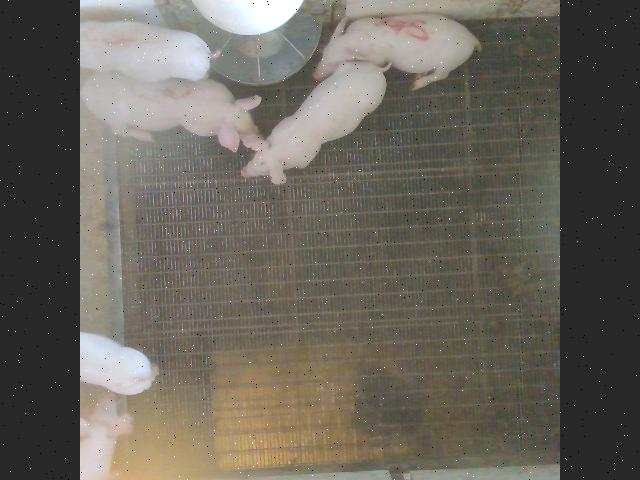pig-1: (81, 20, 225, 81)
pig-3: (82, 71, 260, 150)
pig-5: (314, 14, 480, 89)
